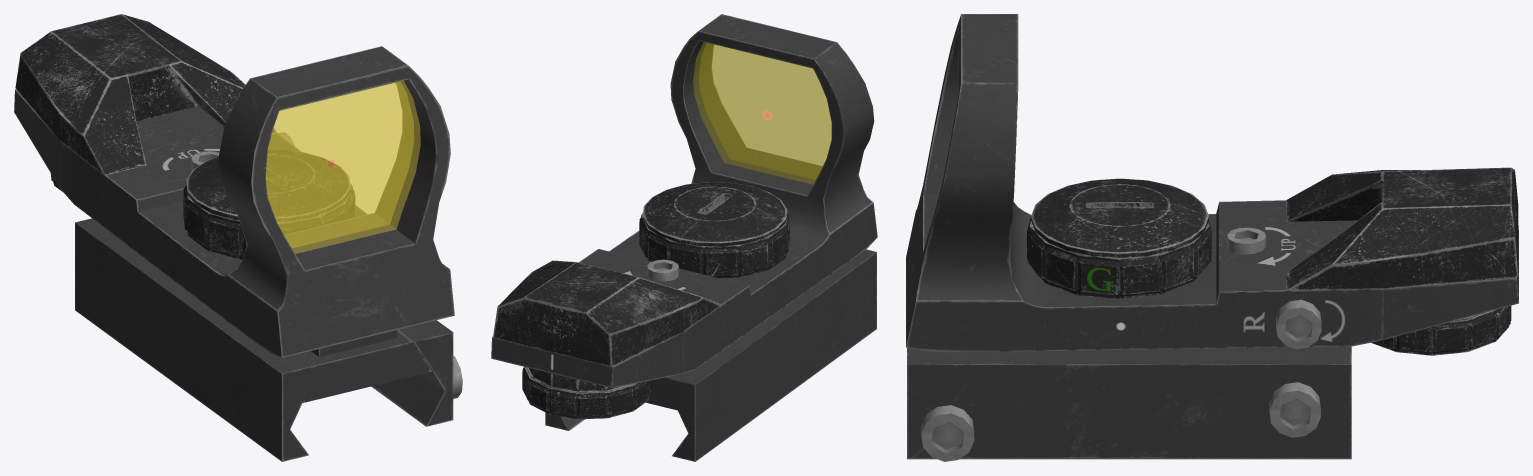
The model's file is red_dot_sight.glb.
3 renders of one model, left to right at view 1: azimuth 30°, elevation 25°; view 2: azimuth 150°, elevation 25°; view 3: azimuth 270°, elevation 25°, orthographic. The views are drawn at different scales.
Visible parts, largest first — view 1: Body_lr, Rail_Mount_lr, Back_Cover_lr, Glass_lr, Top_Dial_lr, Rail_Clamp_lr, Bottom_Dial_lr; view 2: Body_lr, Rail_Mount_lr, Back_Cover_lr, Glass_lr, Top_Dial_lr, Bottom_Dial_lr, Rear_Dial_lr, Screw_4_lr, Rail_Clamp_lr; view 3: Body_lr, Rail_Clamp_lr, Back_Cover_lr, Top_Dial_lr, Bottom_Dial_lr, Rear_Dial_lr, Screw_2_lr, Screw_1_lr, Screw_3_lr, Screw_4_lr.
Boxes of the visible parts, x1,y1,x2,y2 form: Body_lr: [14, 46, 454, 357]; Rail_Mount_lr: [75, 218, 431, 461]; Back_Cover_lr: [15, 14, 276, 175]; Glass_lr: [265, 81, 420, 253]; Top_Dial_lr: [186, 149, 350, 222]; Rail_Clamp_lr: [371, 320, 453, 426]; Bottom_Dial_lr: [183, 183, 354, 260]; Body_lr: [491, 14, 877, 388]; Rail_Mount_lr: [646, 249, 876, 461]; Back_Cover_lr: [493, 260, 722, 366]; Glass_lr: [693, 42, 831, 184]; Top_Dial_lr: [642, 182, 786, 246]; Bottom_Dial_lr: [639, 210, 789, 278]; Rear_Dial_lr: [522, 366, 651, 419]; Screw_4_lr: [647, 259, 678, 281]; Rail_Clamp_lr: [545, 412, 584, 430]; Body_lr: [906, 14, 1518, 351]; Rail_Clamp_lr: [907, 346, 1351, 459]; Back_Cover_lr: [1286, 167, 1518, 290]; Top_Dial_lr: [1031, 178, 1208, 258]; Bottom_Dial_lr: [1027, 217, 1211, 299]; Rear_Dial_lr: [1371, 306, 1511, 355]; Screw_2_lr: [921, 405, 974, 461]; Screw_1_lr: [1269, 382, 1320, 437]; Screw_3_lr: [1276, 299, 1321, 349]; Screw_4_lr: [1227, 227, 1265, 254].
Size of the model in its own units: 0.812 by 1.32 by 2.
Materials: 4 (4 with a texture image).
